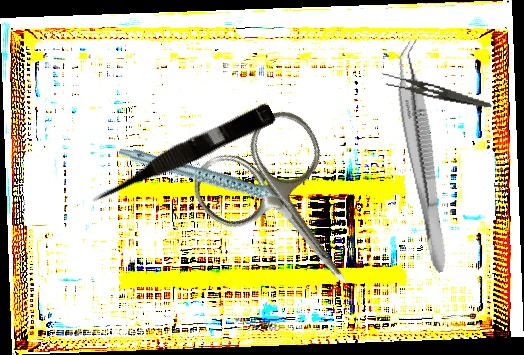Dressing Forceps: (378, 71, 495, 109)
Handpiece: (117, 114, 297, 245)
Iris Scissors: (182, 99, 398, 326)
Micro Scissor: (85, 97, 277, 210)
Tissue Forceps: (386, 38, 462, 275)
